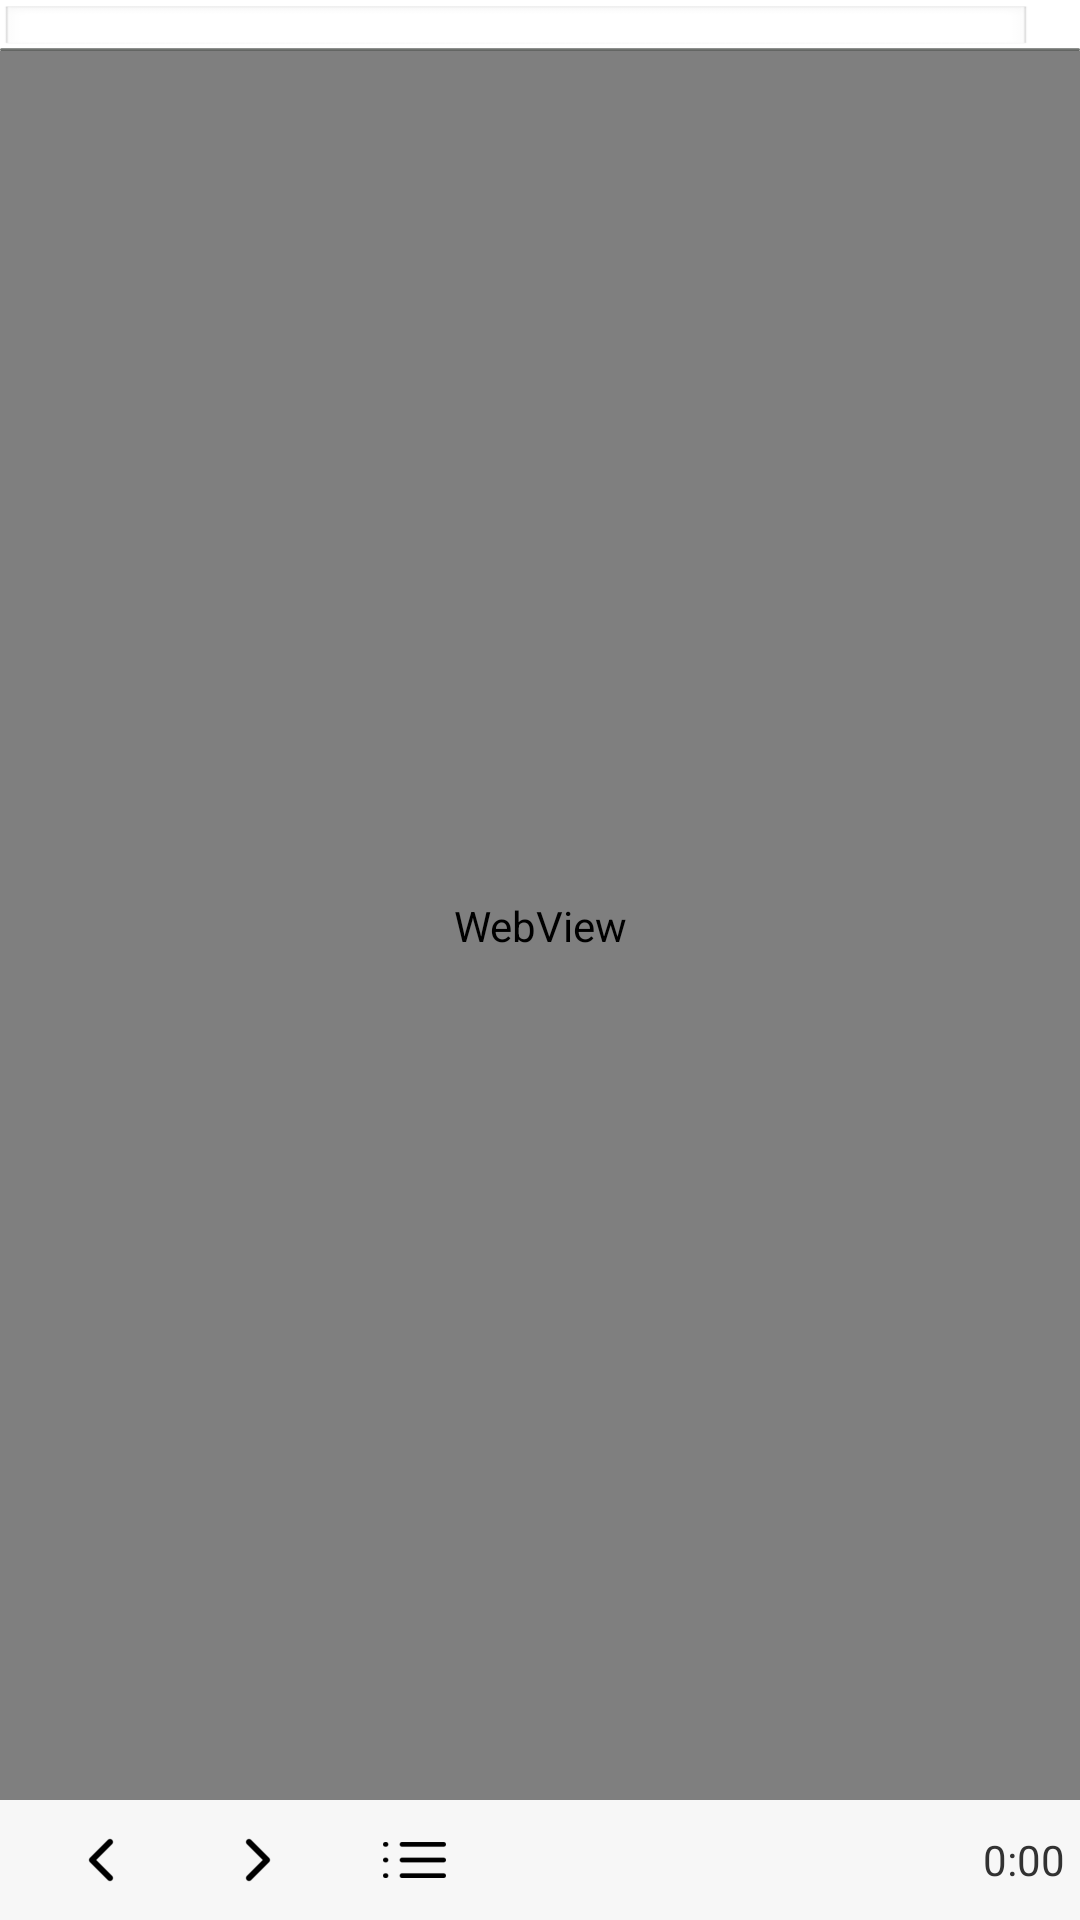

Icons on this 1080px x 1920px Android screen, each with its box as [x1,y1,x2,y2]:
back: [89,1839,113,1881]
forward: [246,1839,270,1881]
menu: [383,1842,446,1878]
